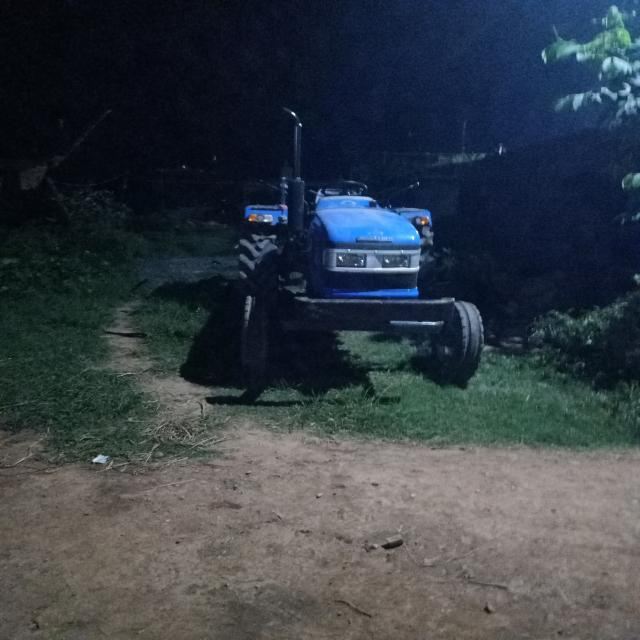Tractor: (240, 150, 495, 388)
